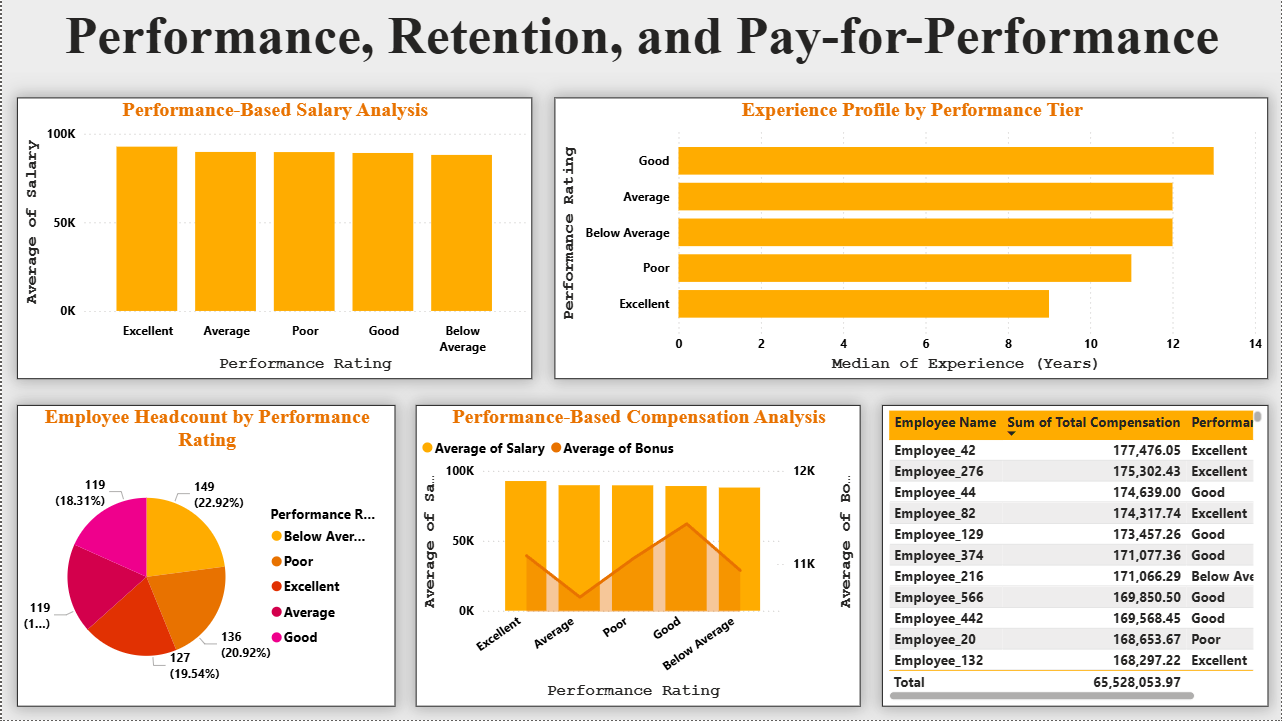

The dashboard page shown, as its layout file describes it:
{"tool":"powerbi","page":{"name":"Page 3","canvas":[1280,720],"ordinal":2},"visuals":[{"type":"textbox","box":[0,0,1280,72.5],"z":0},{"type":"clusteredColumnChart","title":"Performance-Based Salary Analysis","fields":{"Category":["Sheet1.Performance Rating"],"Y":["Avg(Sheet1.Salary)"]},"box":[15,97.5,515,281.2],"z":1000},{"type":"lineClusteredColumnComboChart","title":"Performance-Based Compensation Analysis","fields":{"Y":["Avg(Sheet1.Salary)"],"Y2":["Avg(Sheet1.Bonus)"],"Category":["Sheet1.Performance Rating"]},"box":[413.8,405,445,301.2],"z":2000},{"type":"pieChart","title":"Employee Headcount by Performance Rating","fields":{"Category":["Sheet1.Performance Rating"],"Y":["CountNonNull(Sheet1.Employee ID)"]},"box":[15,405,378.8,301.2],"z":3000},{"type":"clusteredBarChart","title":"Experience Profile by Performance Tier","fields":{"Category":["Sheet1.Performance Rating"],"Y":["Median(Sheet1.Experience (Years))"]},"box":[552.5,97.5,713.8,281.2],"z":3001},{"type":"tableEx","fields":{"Values":["Sheet1.Employee Name","Sum(Sheet1.Total Compensation)","Sheet1.Performance Rating"]},"box":[880,405,386.2,301.2],"z":3002}]}

Visuals, with their boxes in screenshot pixels (x1, y1, x2, y2), scaled from the page's 1280x720 canvas onto the 1282x721 screenshot:
textbox: box(0, 0, 1281, 73)
"Performance-Based Salary Analysis" clusteredColumnChart: box(15, 98, 531, 379)
"Performance-Based Compensation Analysis" lineClusteredColumnComboChart: box(414, 406, 860, 707)
"Employee Headcount by Performance Rating" pieChart: box(15, 406, 394, 707)
"Experience Profile by Performance Tier" clusteredBarChart: box(553, 98, 1268, 379)
tableEx - Sheet1.Employee Name x Sum(Sheet1.Total Compensation): box(881, 406, 1268, 707)
